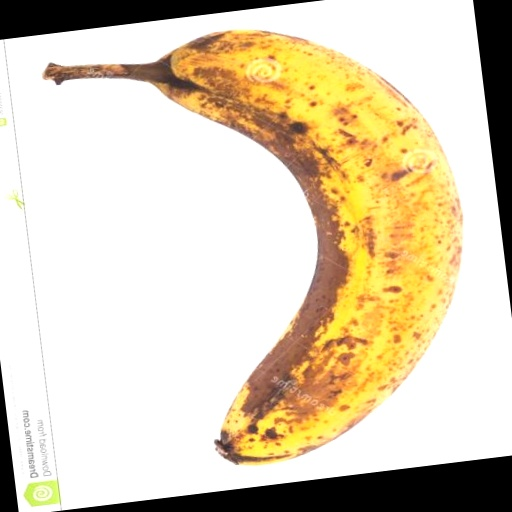fruit: (43, 30, 461, 464)
